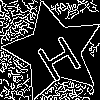H: (29, 26, 84, 84)
